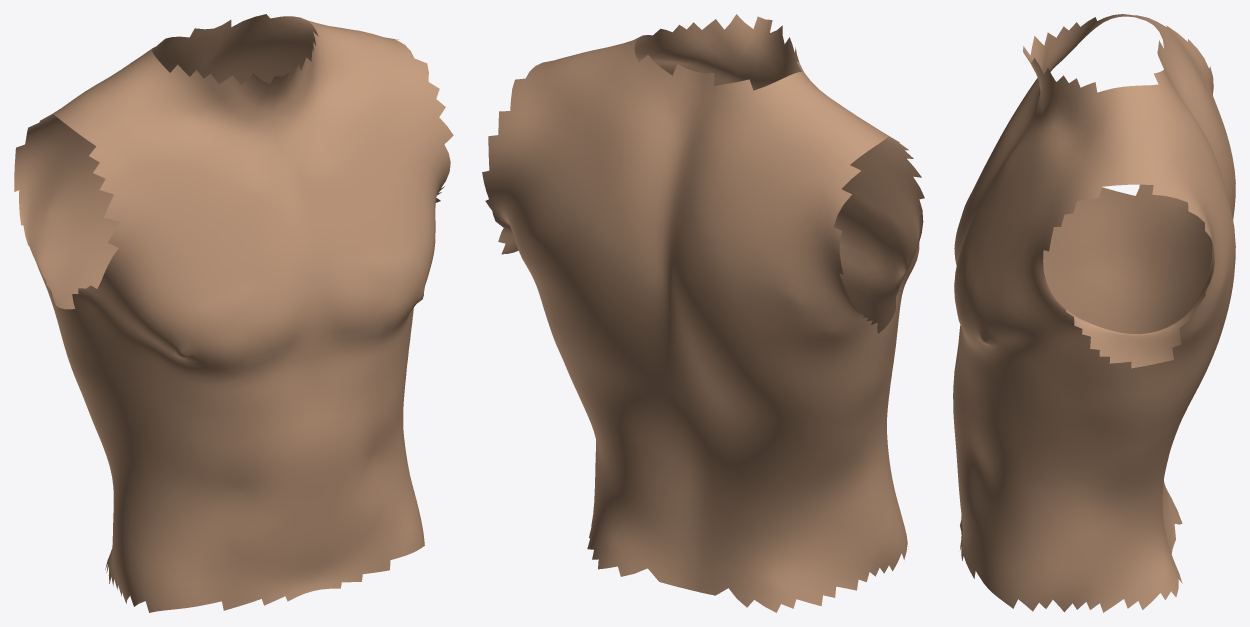
The model's file is body.obj.
3 renders of one model, left to right at view 1: azimuth 30°, elevation 25°; view 2: azimuth 150°, elevation 25°; view 3: azimuth 270°, elevation 25°, orthographic. The views are drawn at different scales.
Parts seen in each view (by area): view 1: FinalBaseMesh:Group1; view 2: FinalBaseMesh:Group1; view 3: FinalBaseMesh:Group1.
Boxes of the visible parts, x1,y1,x2,y2 form: FinalBaseMesh:Group1: (14, 14, 453, 612); FinalBaseMesh:Group1: (482, 14, 924, 612); FinalBaseMesh:Group1: (953, 14, 1235, 612).
Size of the model in its own units: 4.39 by 6.03 by 3.03.
